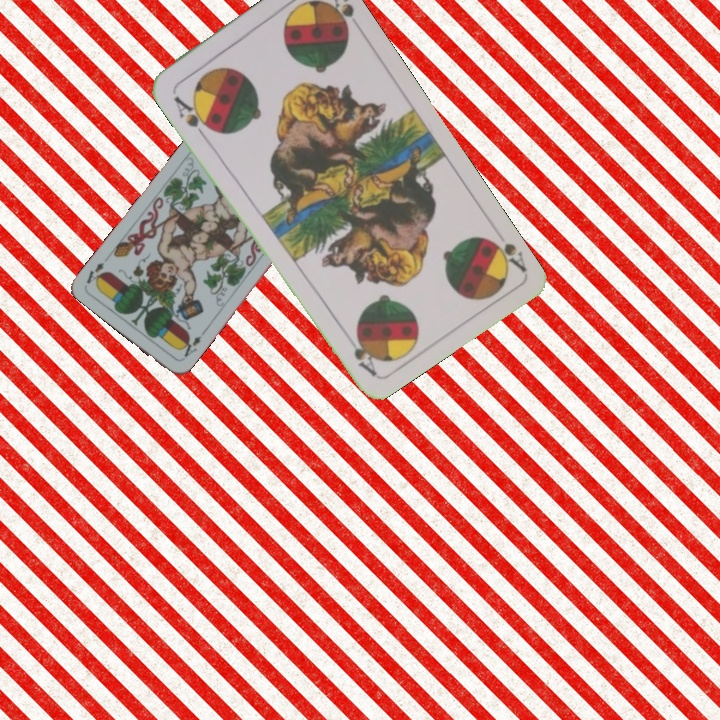EA: (175, 328, 207, 360)
SA: (479, 232, 529, 277), (170, 92, 215, 140)
